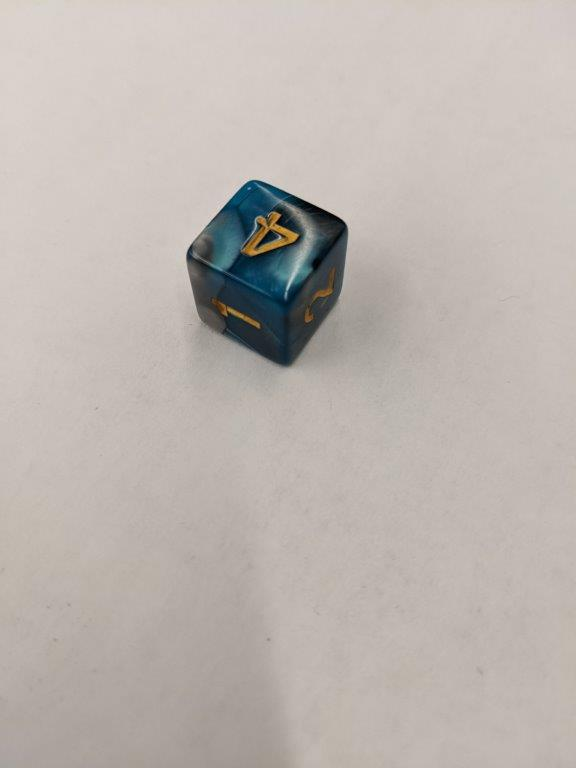d6-4: (186, 179, 353, 368)
